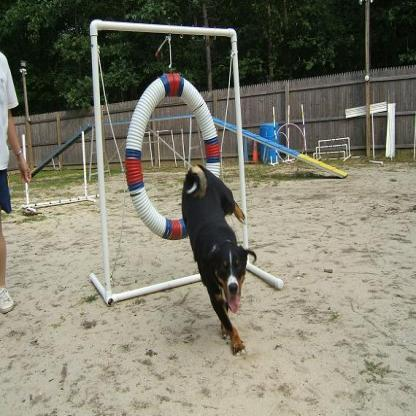Appenzeller: (179, 163, 257, 359)
